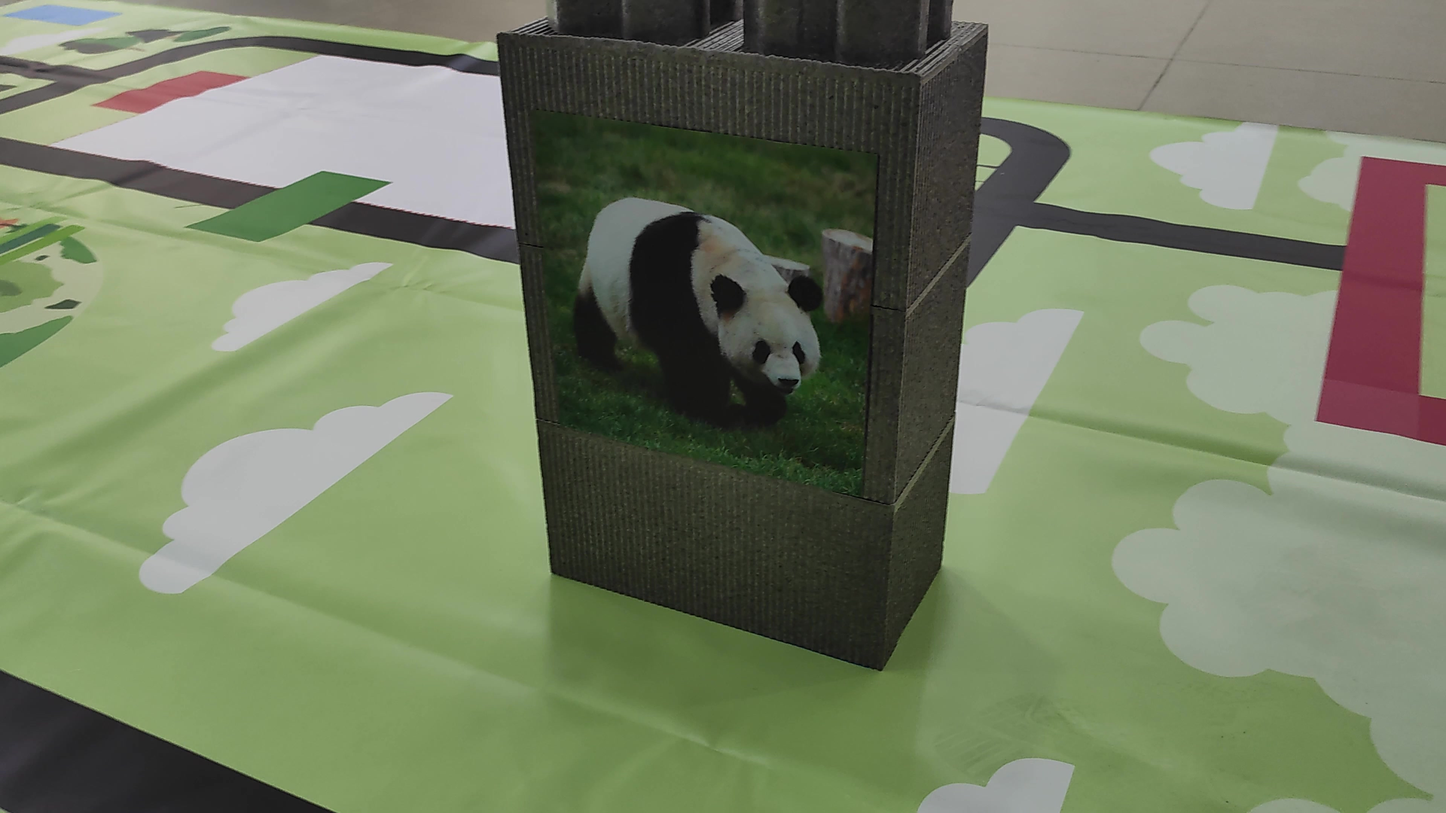panda: (555, 172, 839, 451)
